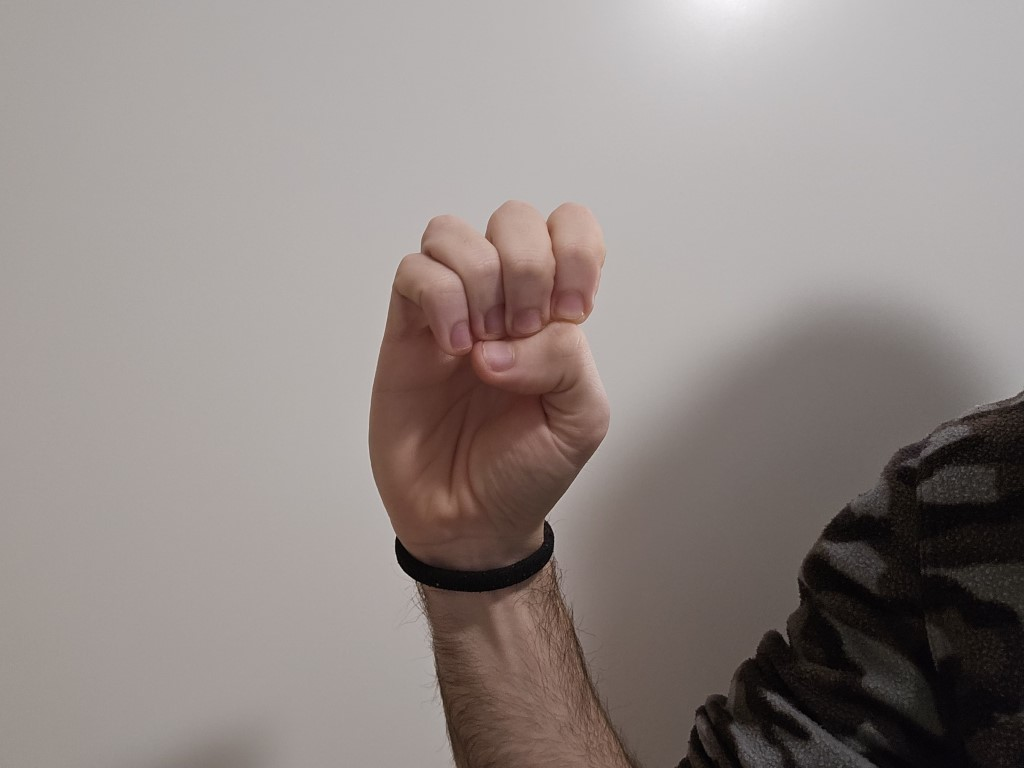e: (350, 179, 626, 562)
